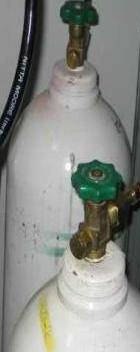cylinder: (0, 1, 140, 352)
